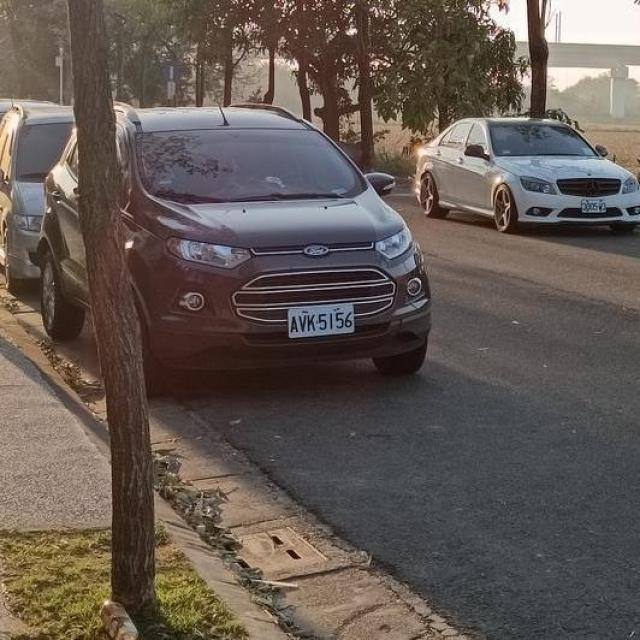W: (285, 302, 356, 339), (578, 195, 608, 214)
